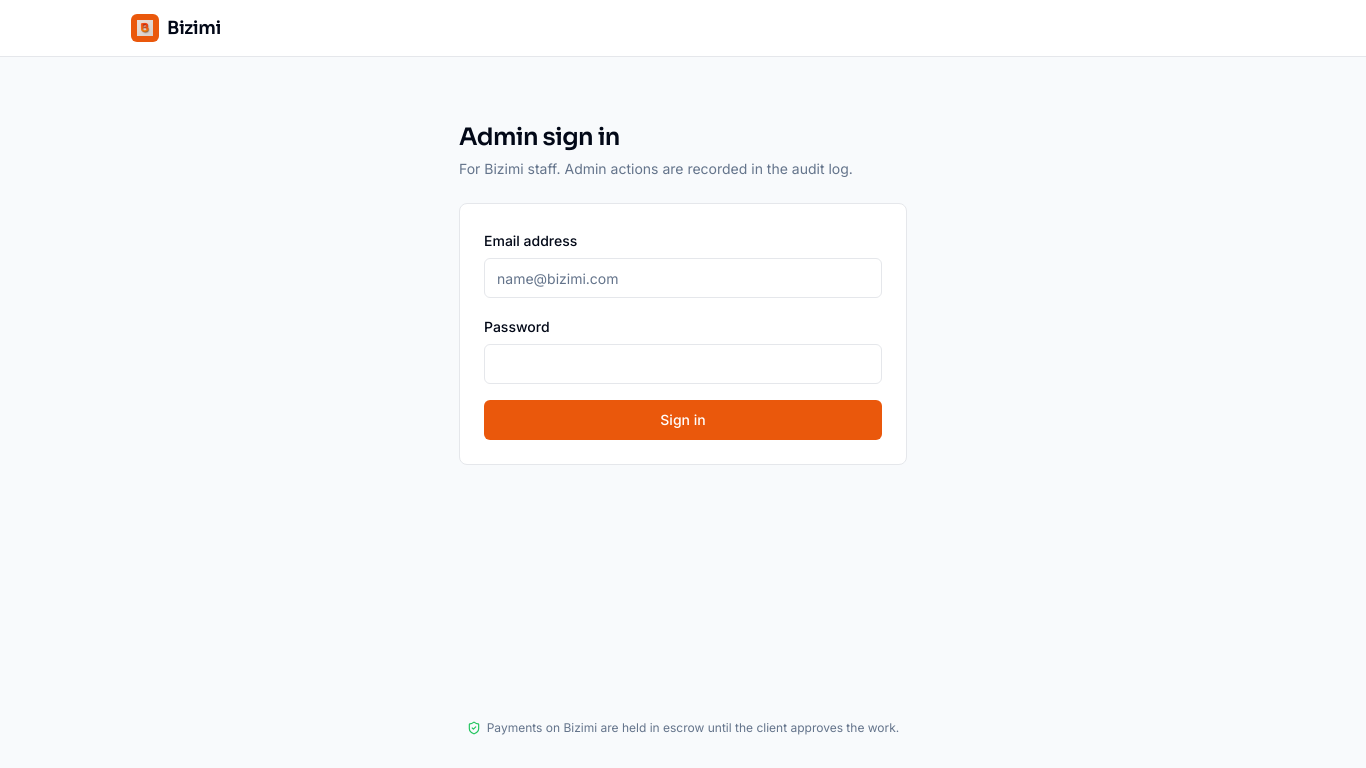
Test: AdminLogin › signs the user back out and shows an error when the profile is not an admin
The width and height of the screenshot is (1366, 768).
Type "admin@bizimi.com" into the field labelled "Email address" at (683, 278), box [484,258,882,298]
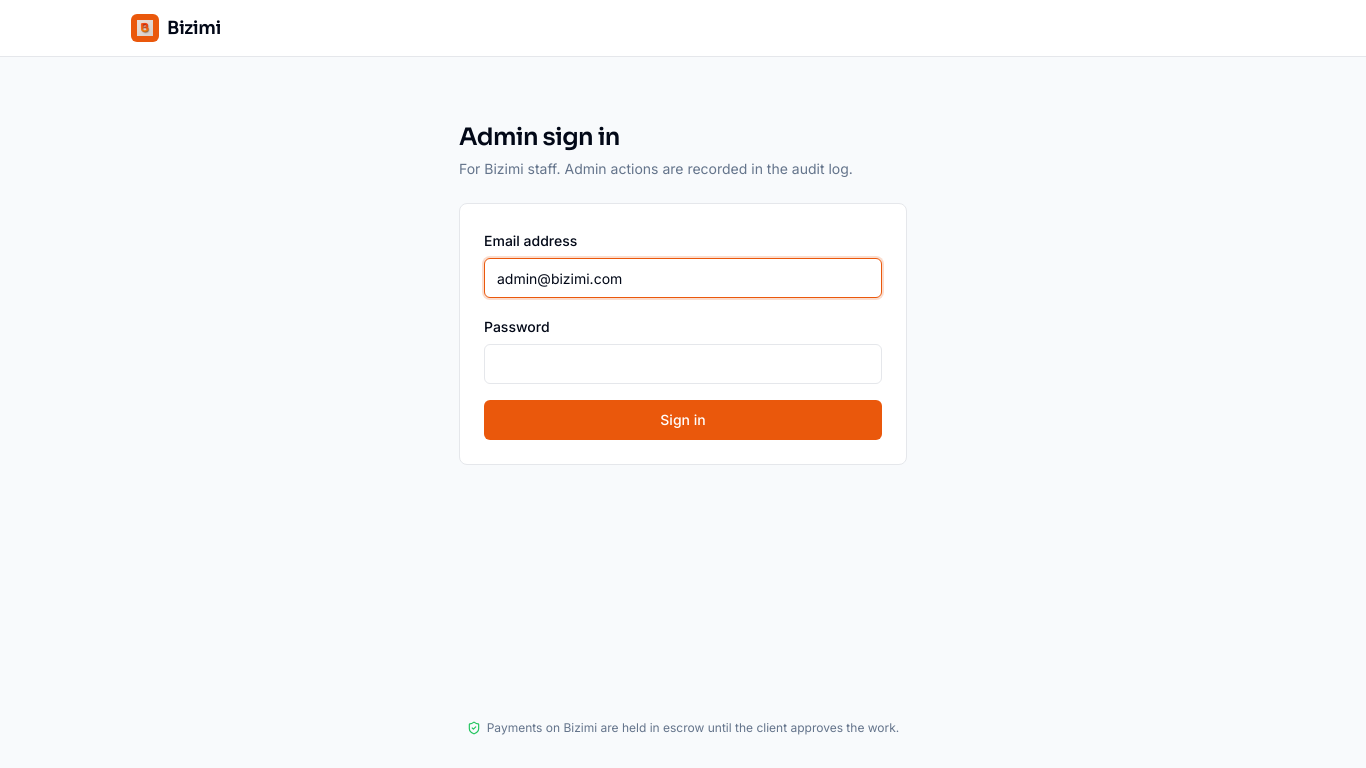
Type "hunter2" into the password field labelled "Password" at (683, 364), box [484,344,882,384]
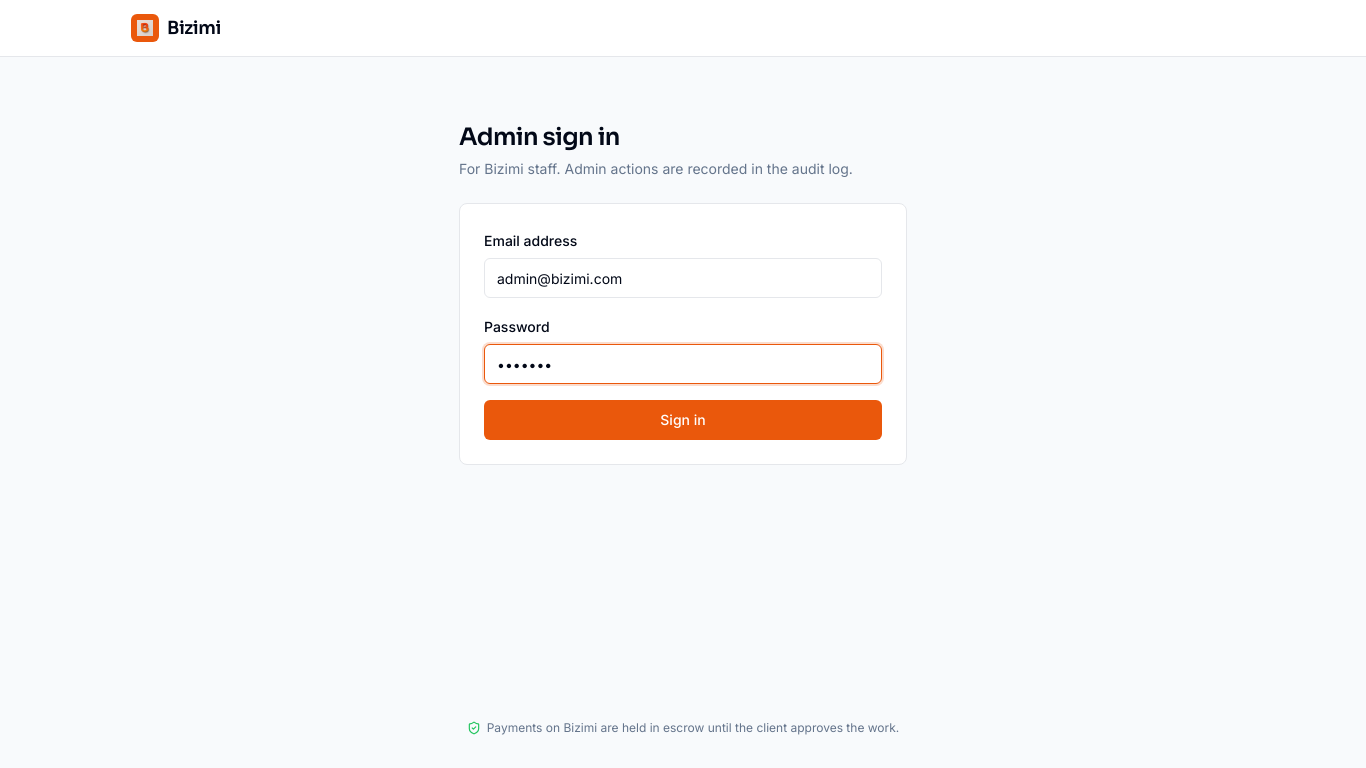
Click the button "Sign in" at (683, 420), box [484,400,882,440]
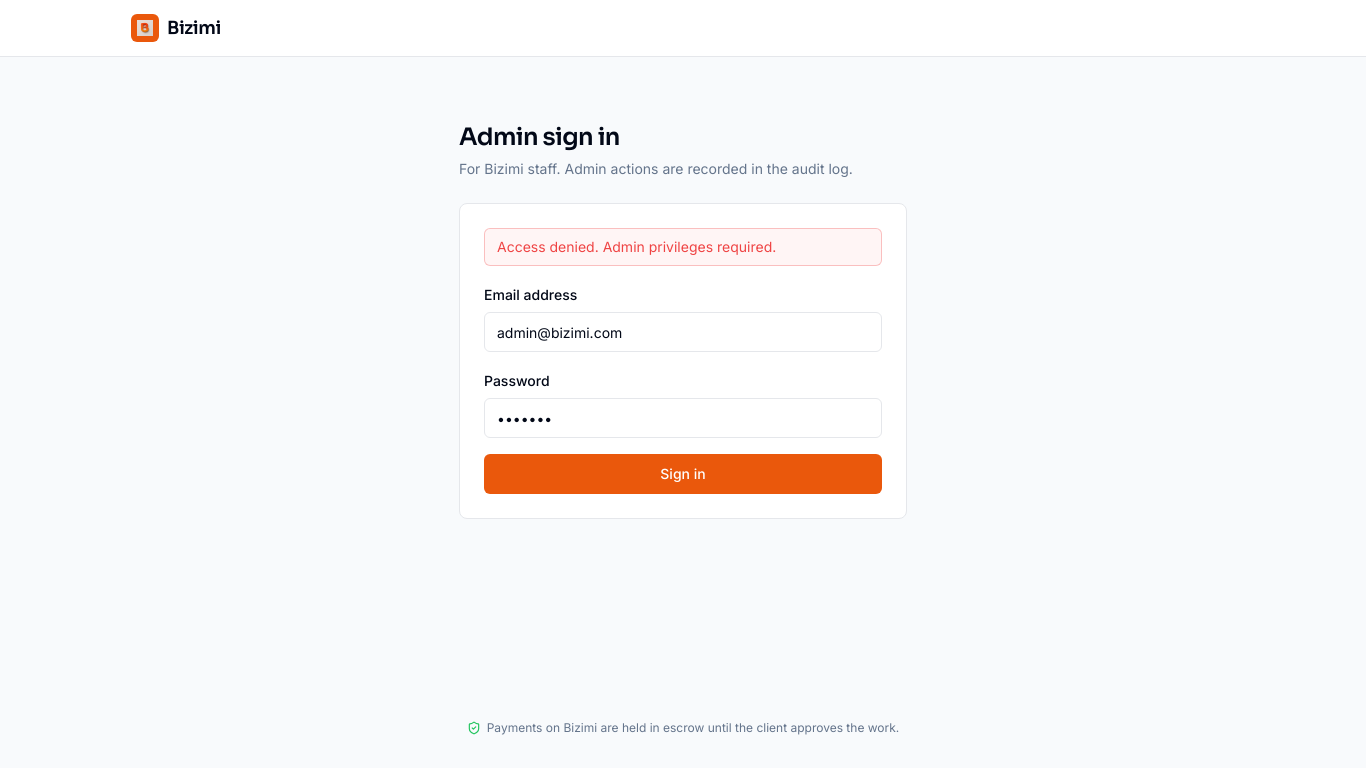
Now the text "Access denied. Admin privileges required." is shown, box [484,228,882,266]
